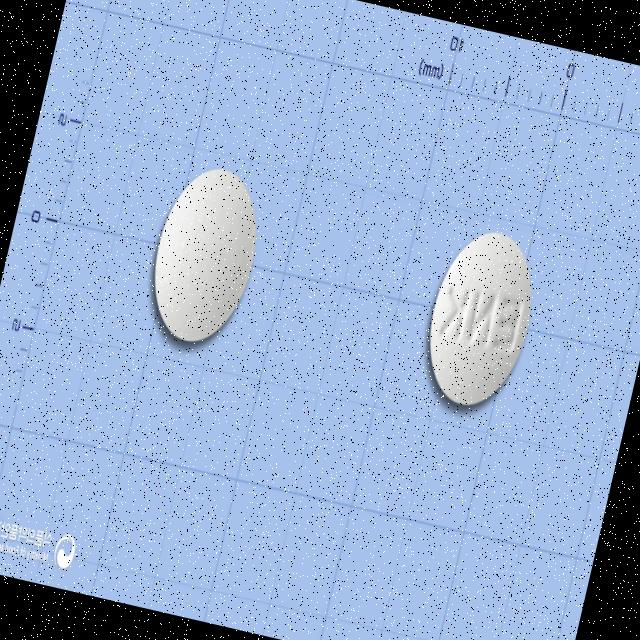Levoflo: (412, 222, 547, 414), (137, 158, 270, 352)
